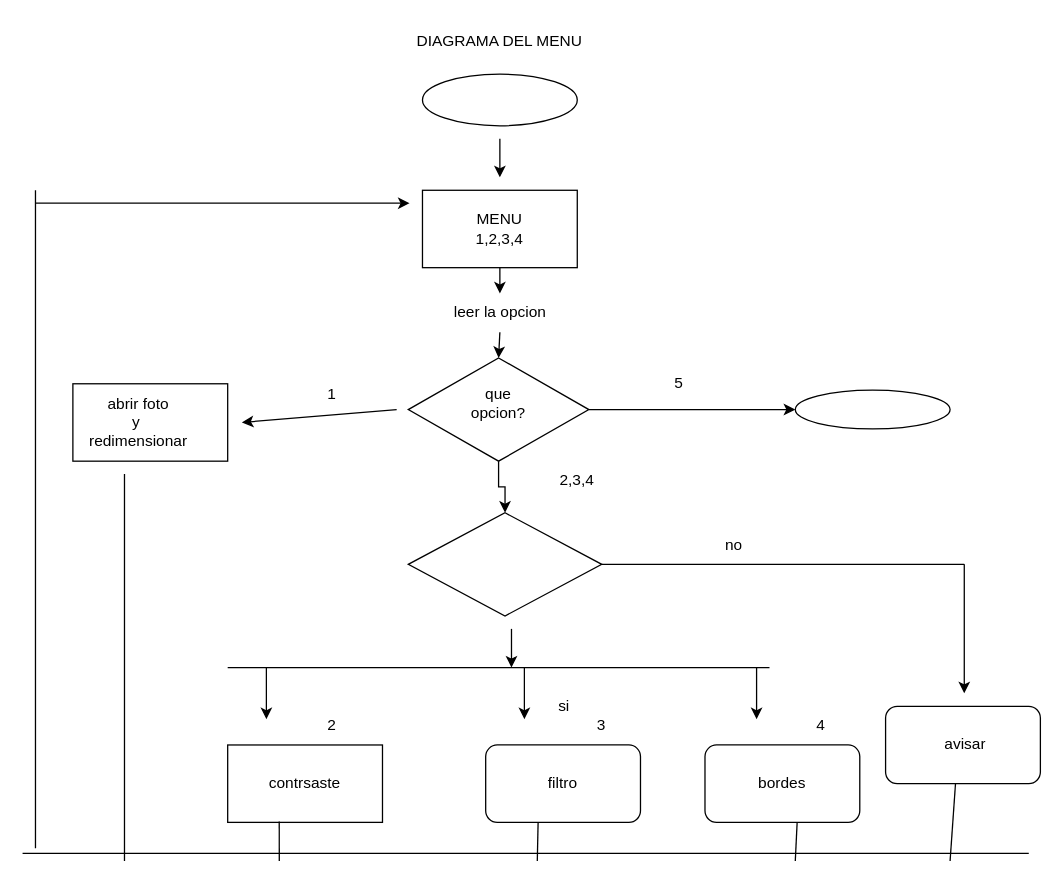
Some shapes in this 1063 by 885 pixel diagram are drawn without their labels. The shapes that lost their labels are listed below. From the top down, each one's centre as x and y in pixels, then its label:
At (x=499, y=99): "INICIO".
At (x=872, y=409): "fin".
At (x=504, y=563): "que hizo la opcion 1?".
